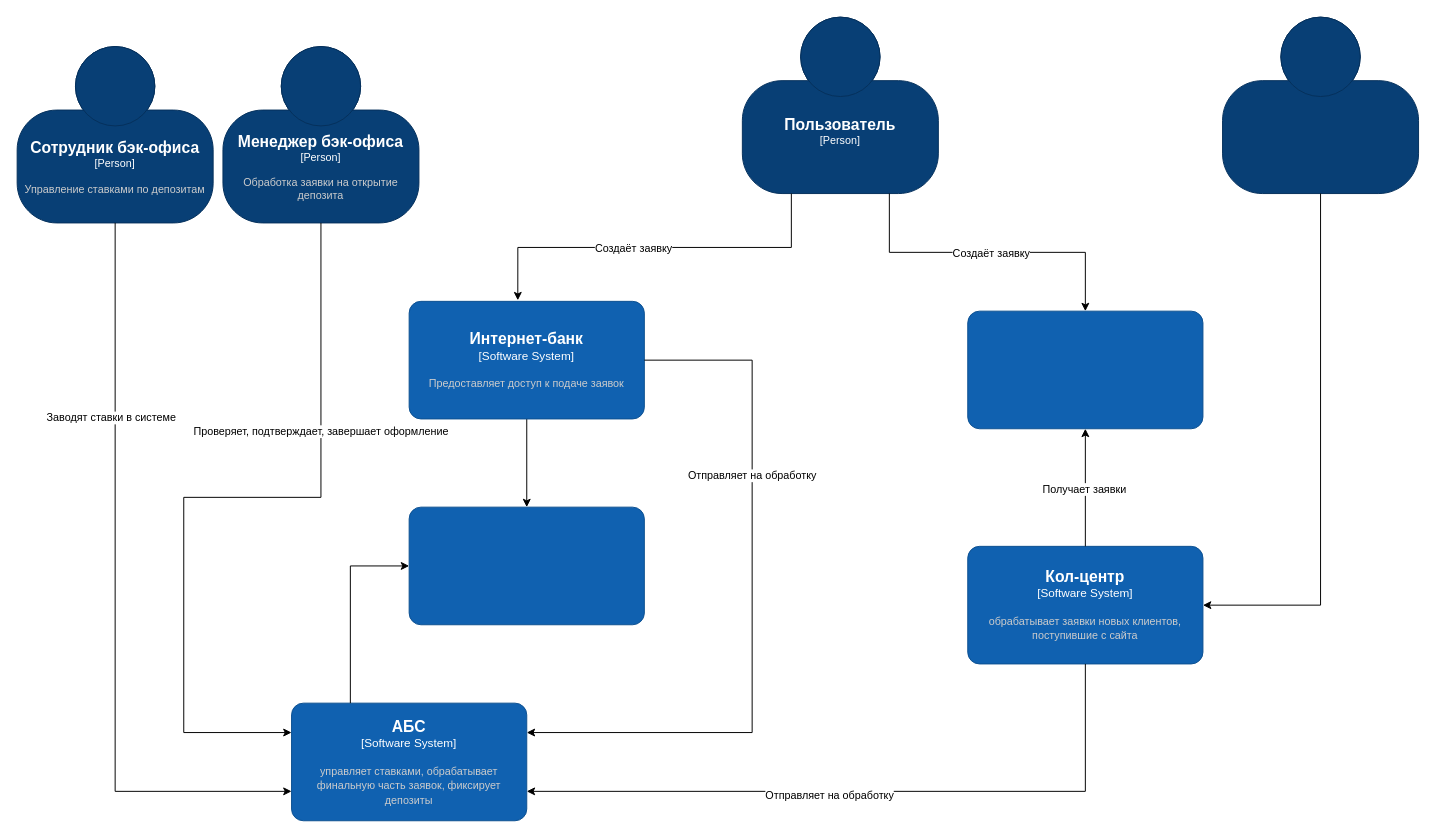
Some shapes in this 1436 by 838 pixel diagram are drawn without their labels. The centre of each missing label's shape, as x and y in pixels:
Менеджер кол-центра [Person] Обработка заявки с сайта: (x=1320, y=105)
Сайт [Software System] Предоставляет доступ к подаче заявок: (x=1085, y=369)
СМС-шлюз [Software System] отправка уведомлений: (x=526, y=565)
